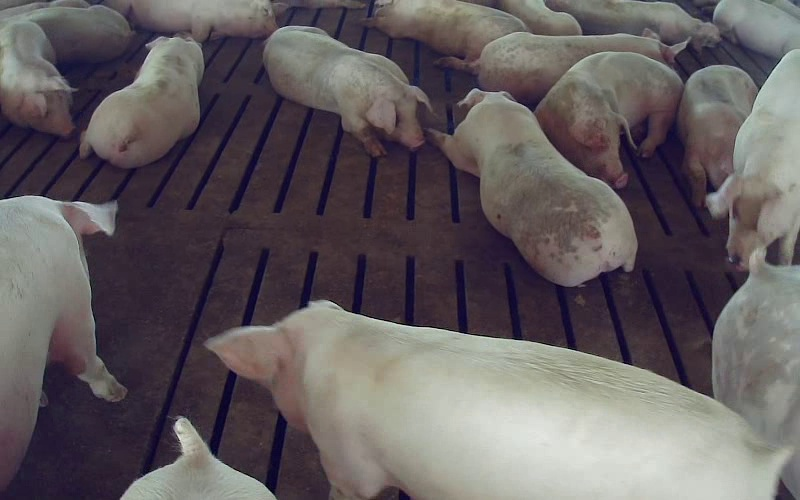pig: (207, 301, 789, 499), (428, 89, 636, 286), (0, 196, 126, 490), (263, 26, 430, 156), (713, 249, 799, 499), (706, 49, 799, 268), (535, 52, 683, 188), (79, 36, 203, 167), (475, 29, 689, 104), (363, 0, 527, 71), (677, 65, 757, 206), (546, 0, 720, 51), (0, 5, 131, 62), (104, 0, 276, 41)
